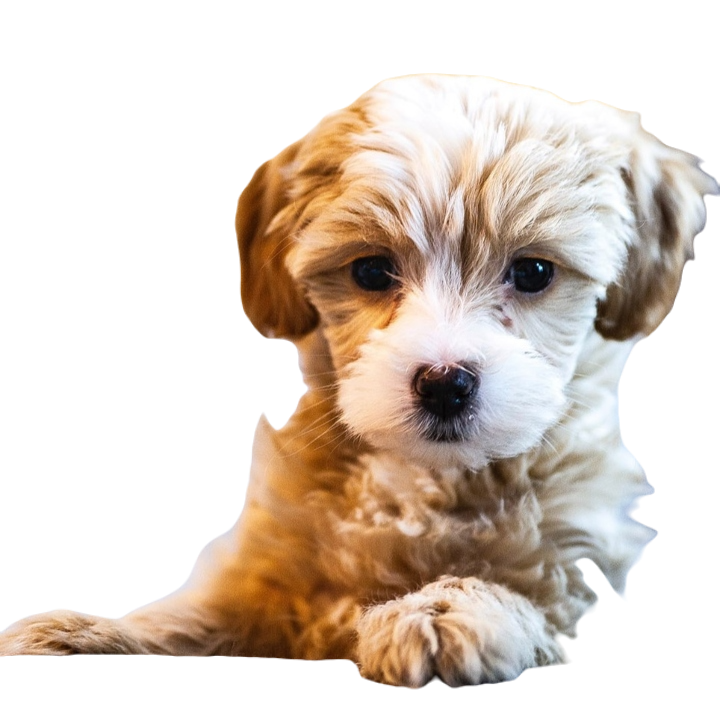Dog: (0, 70, 719, 690)
